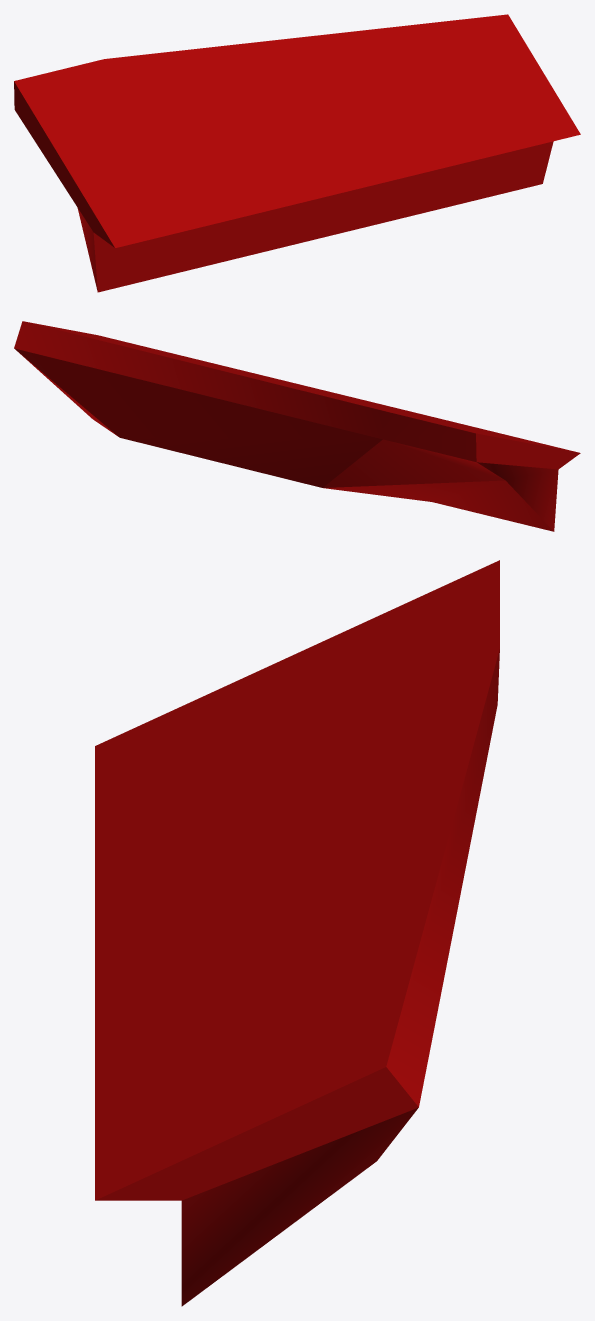
Rendered from SM_Env_Stairs_Broken_01_Collision.glb.
3 views of the same model, one above another, from view 1: azimuth 30°, elevation 25°; view 2: azimuth 150°, elevation 25°; view 3: azimuth 270°, elevation 25° (orthographic). The views are drawn at different scales.
Visible parts, largest first — view 1: SM_Env_Stairs_Broken_01_Collision; view 2: SM_Env_Stairs_Broken_01_Collision; view 3: SM_Env_Stairs_Broken_01_Collision.
Part boxes in pixels (x1,y1,x2,y2): SM_Env_Stairs_Broken_01_Collision: [14, 14, 580, 292]; SM_Env_Stairs_Broken_01_Collision: [14, 321, 580, 531]; SM_Env_Stairs_Broken_01_Collision: [95, 560, 499, 1306].
Bounding box in the file's own units: 4.96 × 1.57 × 1.87.
